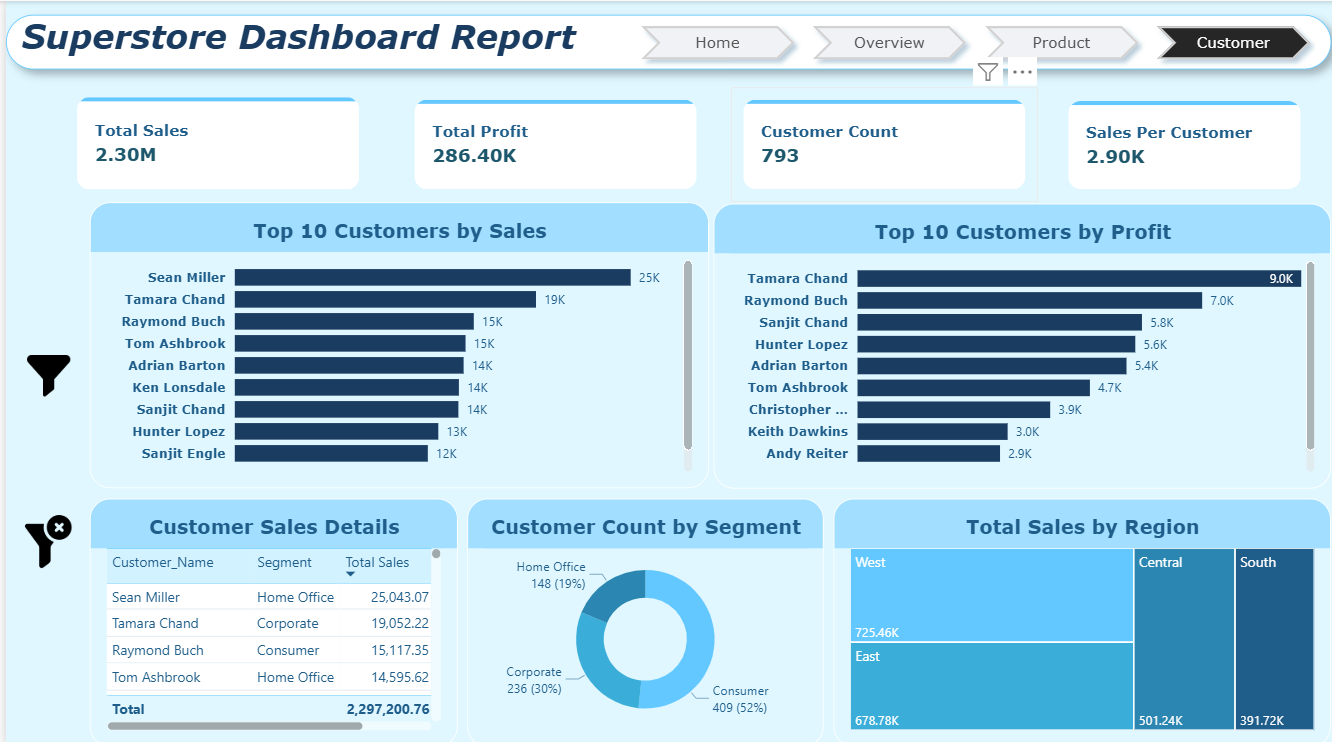

Layout of this report page (visuals, bound fields, positions):
{"tool":"powerbi","page":{"name":"Customer","canvas":[1280,720],"ordinal":3},"visuals":[{"type":"textbox","box":[0,13.3,1278.8,53.1],"z":0},{"type":"pageNavigator","box":[588.8,0,690,80],"z":1000},{"type":"cardVisual","fields":{"Data":["Measure.Total Sales"]},"box":[38.6,86.9,247.3,107.4],"z":2000},{"type":"cardVisual","fields":{"Data":["Measure.Total Profit"]},"box":[285.9,86.9,247.3,111],"z":3000},{"type":"cardVisual","fields":{"Data":["Measure.Customer Count"]},"box":[533.2,85.7,250.9,111],"z":4000},{"type":"cardVisual","fields":{"Data":["Measure.Sales Per Customer"]},"box":[784.2,86.9,247.3,108.6],"z":5000},{"type":"clusteredBarChart","title":"Top 10 Customers by Sales","fields":{"Category":["DIM_Customers.Customer_Name"],"Y":["Measure.Total Sales"]},"box":[81.2,193.8,597.5,276.2],"z":6000},{"type":"clusteredBarChart","title":"Top 10 Customers by Profit","fields":{"Category":["DIM_Customers.Customer_Name"],"Y":["Measure.Total Profit"]},"box":[682.5,195,596.2,275],"z":7000},{"type":"donutChart","fields":{"Y":["Measure.Customer Count"],"Category":["DIM_Customers.Segment"]},"box":[445,480,343.8,240],"z":8000},{"type":"treemap","fields":{"Group":["DIM_Location.Region"],"Values":["Measure.Total Sales"]},"box":[798.8,480,480,240],"z":9000},{"type":"tableEx","title":"Customer Sales Details","fields":{"Values":["DIM_Customers.Customer_Name","DIM_Customers.Segment","Measure.Total Sales","Measure.Total Profit"]},"box":[81.2,480,355,240],"z":10000},{"type":"image","box":[1.2,313.8,80,93.8],"z":16000},{"type":"image","box":[0,470,81.2,102.5],"z":17000},{"type":"actionButton","box":[0,326.2,81.2,68.8],"z":18000},{"type":"actionButton","title":"Clear Filter","box":[0,480,81.2,82.5],"z":20000},{"type":"cardVisual","fields":{"Data":["Measure.Purchase Frequency"]},"box":[1031.5,86.9,247.3,108.6],"z":20001}]}

Visuals, with their boxes in screenshot pixels (x1, y1, x2, y2), scaled from the page's 1280x720 canvas onto the 1332x742 screenshot:
textbox: 0/14/1331/68
pageNavigator: 613/0/1331/82
cardVisual - Measure.Total Sales: 40/90/298/200
cardVisual - Measure.Total Profit: 298/90/555/204
cardVisual - Measure.Customer Count: 555/88/816/203
cardVisual - Measure.Sales Per Customer: 816/90/1073/201
"Top 10 Customers by Sales" clusteredBarChart: 84/200/706/484
"Top 10 Customers by Profit" clusteredBarChart: 710/201/1331/484
donutChart - Measure.Customer Count x DIM_Customers.Segment: 463/495/821/741
treemap - DIM_Location.Region x Measure.Total Sales: 831/495/1331/741
"Customer Sales Details" tableEx: 84/495/454/741
image: 1/323/84/420
image: 0/484/84/590
actionButton: 0/336/84/407
"Clear Filter" actionButton: 0/495/84/580
cardVisual - Measure.Purchase Frequency: 1073/90/1331/201
